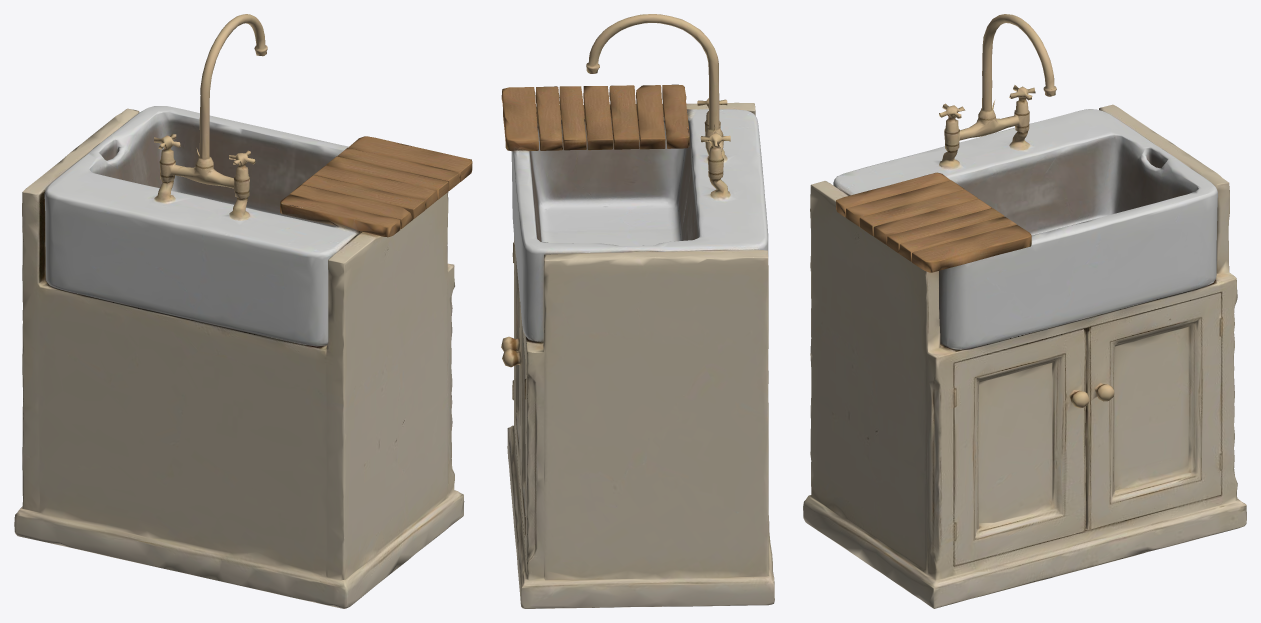
File: k_sink.glb
3 renders of one model, left to right at view 1: azimuth 30°, elevation 25°; view 2: azimuth 150°, elevation 25°; view 3: azimuth 270°, elevation 25°, orthographic. The views are drawn at different scales.
Parts seen in each view (by area): view 1: tripo_node_3874c55e-2ed5-4c45-87af-9a308f2fc5f4; view 2: tripo_node_3874c55e-2ed5-4c45-87af-9a308f2fc5f4; view 3: tripo_node_3874c55e-2ed5-4c45-87af-9a308f2fc5f4.
Part boxes in pixels (x1=…): tripo_node_3874c55e-2ed5-4c45-87af-9a308f2fc5f4: x1=14, y1=14, x2=472, y2=608; tripo_node_3874c55e-2ed5-4c45-87af-9a308f2fc5f4: x1=501, y1=14, x2=774, y2=608; tripo_node_3874c55e-2ed5-4c45-87af-9a308f2fc5f4: x1=803, y1=14, x2=1246, y2=608.
Size of the model in its own units: 0.7463 by 1 by 0.8024.
Materials: 1 (1 with a texture image).
